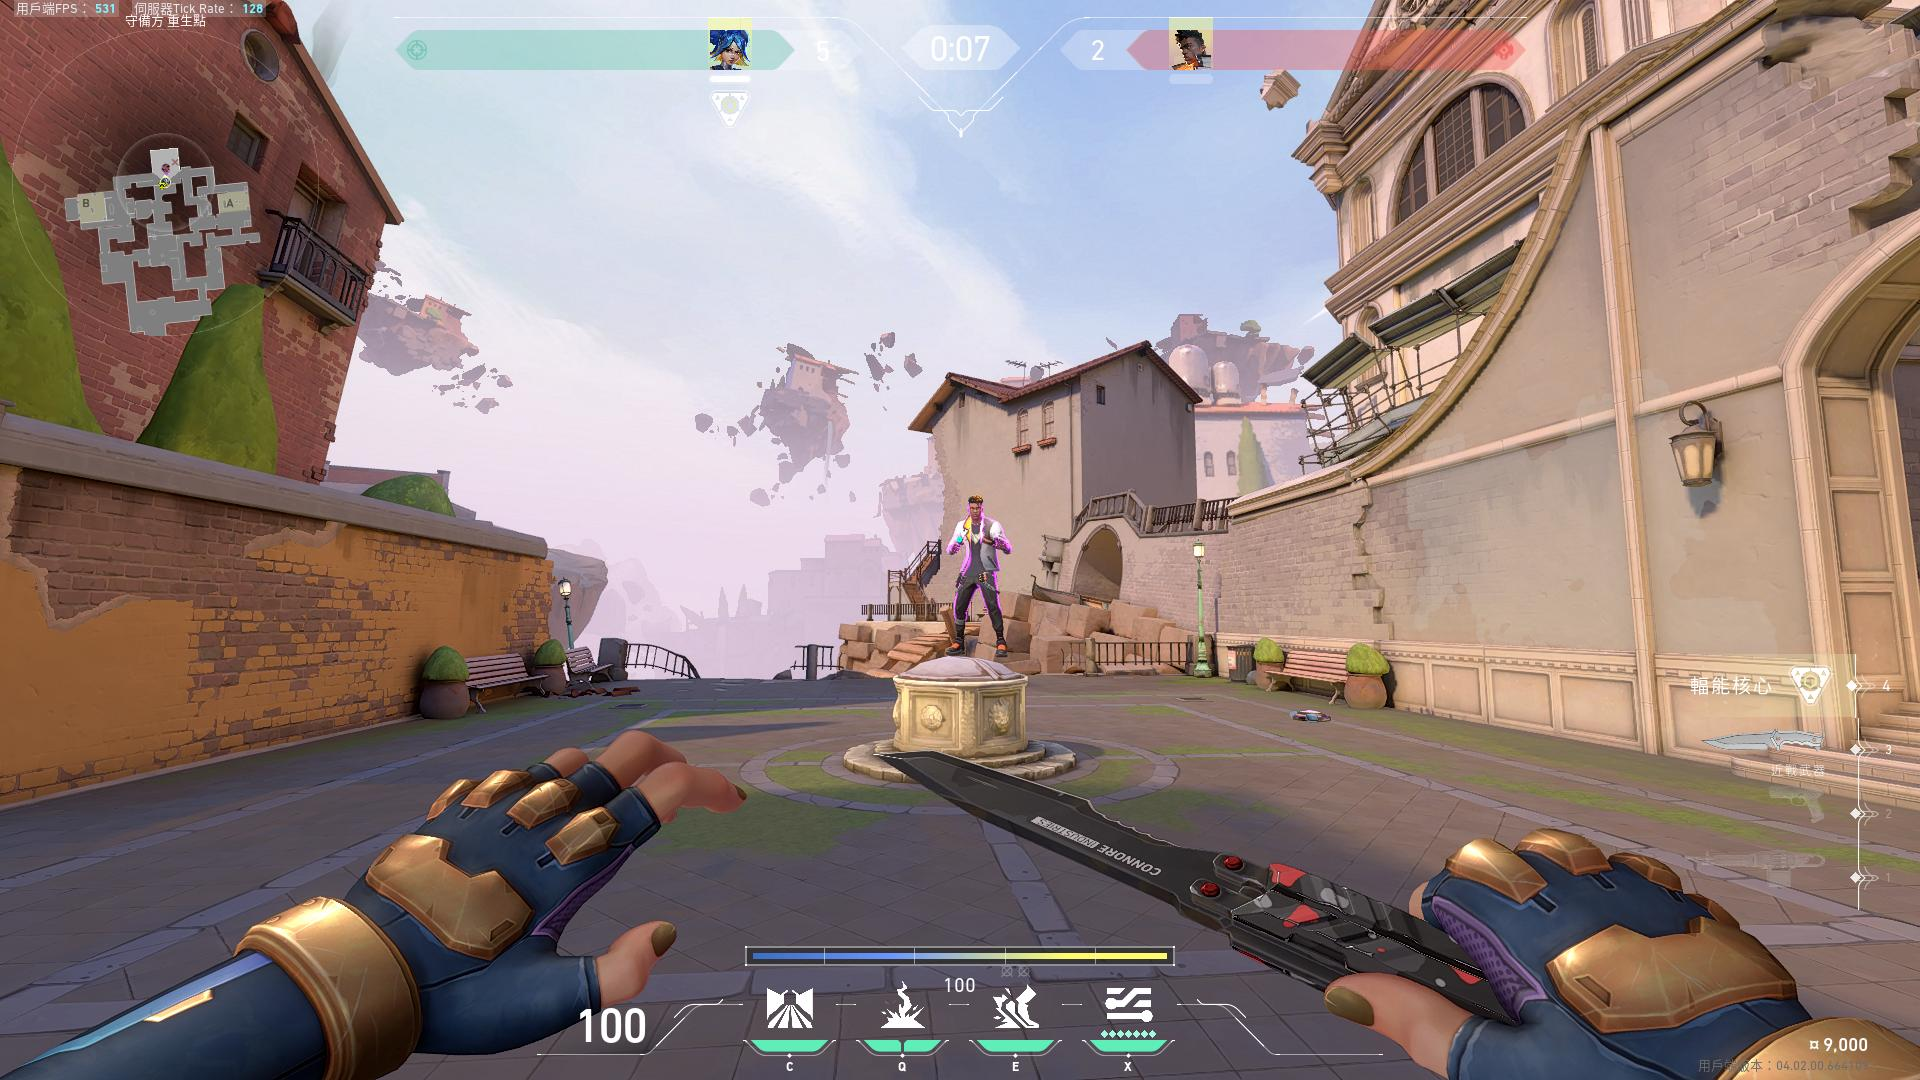enemyBody: (964, 522, 996, 568)
enemyHead: (968, 501, 982, 520)
